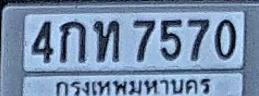0: (214, 18, 236, 59)
4: (32, 20, 52, 62)
5: (160, 19, 182, 60)
7: (133, 19, 155, 61), (188, 18, 209, 60)
A01: (59, 20, 86, 63)
A23: (94, 20, 120, 62)
BKK: (53, 74, 217, 96)
